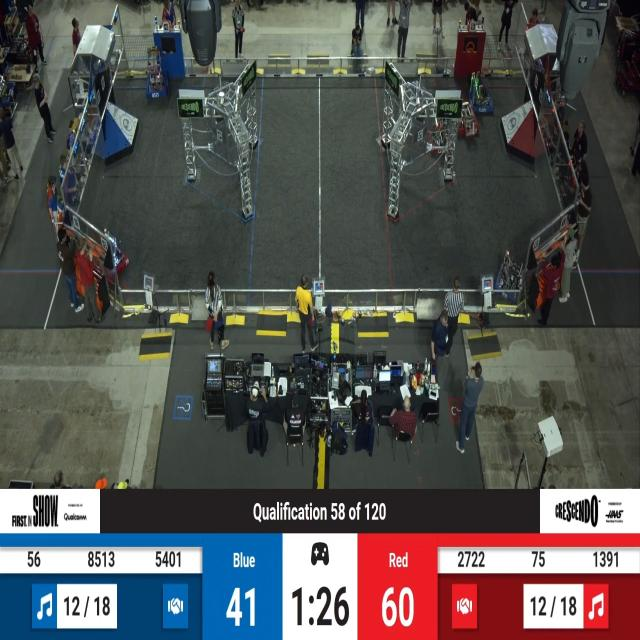Robot: (91, 218, 134, 286), (494, 244, 530, 308), (428, 104, 454, 160), (144, 50, 168, 103), (469, 68, 495, 114), (456, 99, 480, 143)
